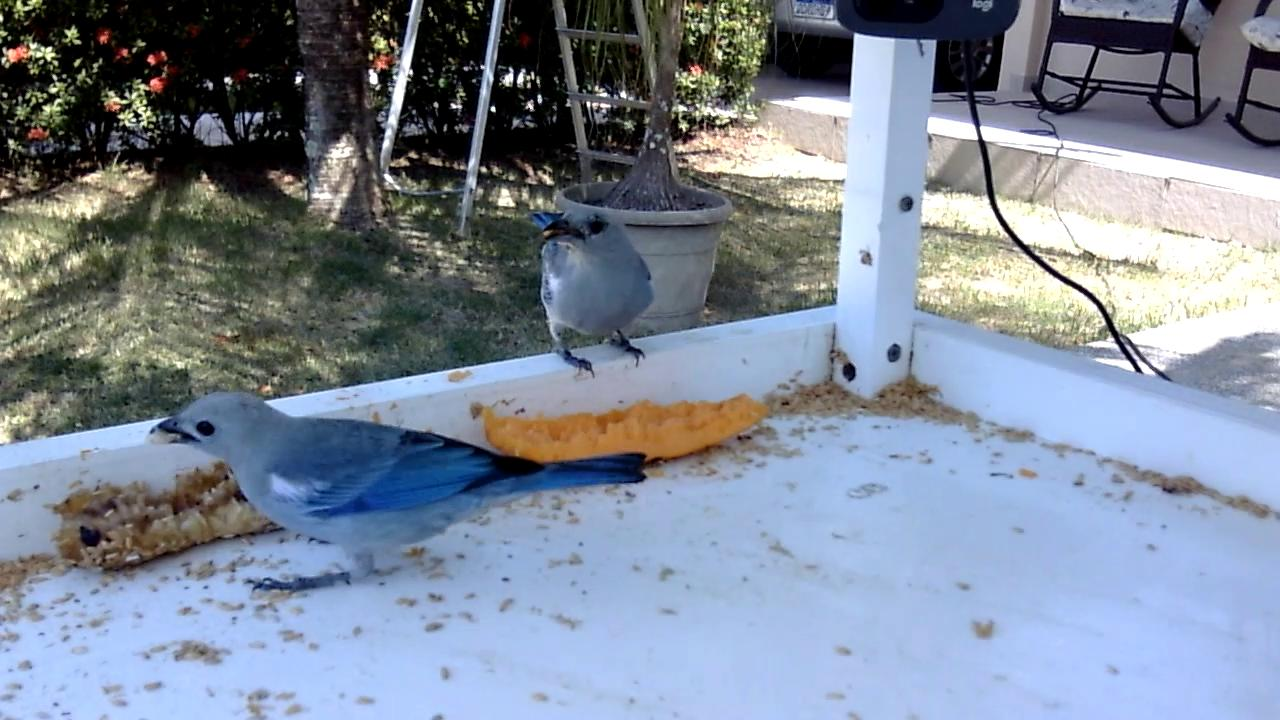sanhaco_da_amazonia: (149, 391, 652, 597), (526, 204, 661, 381)
